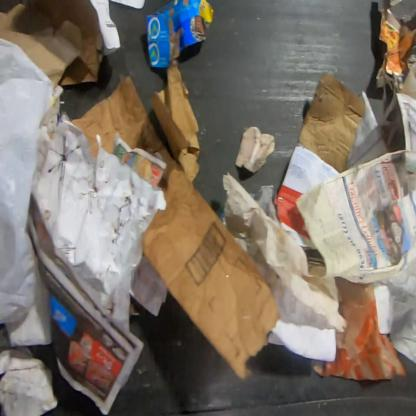cardboard: (70, 75, 284, 381), (0, 0, 103, 84), (297, 71, 366, 175), (151, 59, 201, 184), (146, 0, 215, 67)
rigid_plastic: (399, 54, 415, 103)
soft_plastic: (0, 38, 67, 324)
